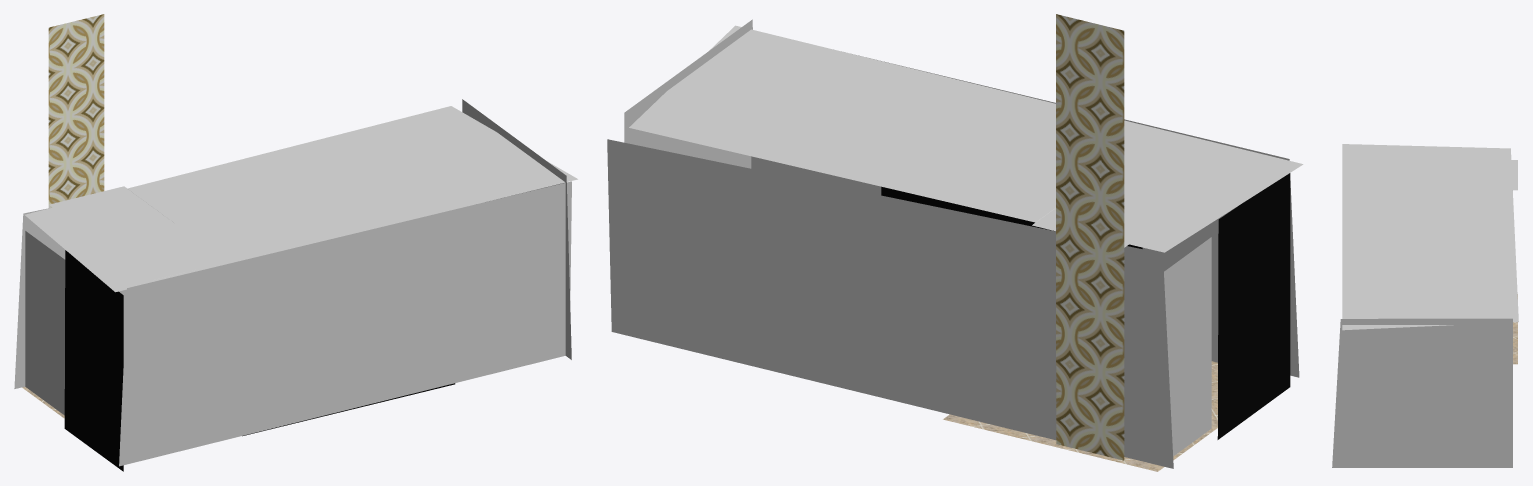
3 renders of one model, left to right at view 1: azimuth 30°, elevation 25°; view 2: azimuth 150°, elevation 25°; view 3: azimuth 270°, elevation 25°, orthographic. The views are drawn at different scales.
Parts seen in each view (by area): view 1: stairscase:Mesh17, stairscase:Mesh23, stairscase:Mesh13, stairscase:Mesh18; view 2: stairscase:Mesh17, stairscase:Mesh13, stairscase:Mesh23, stairscase:Mesh18, stairscase:Mesh14, stairscase:Mesh22; view 3: stairscase:Mesh17, stairscase:Mesh18, stairscase:Mesh14.
Part boxes in pixels (x1,y1,x2,y2): stairscase:Mesh17: (14, 99, 577, 466); stairscase:Mesh23: (64, 250, 123, 471); stairscase:Mesh13: (48, 14, 104, 207); stairscase:Mesh18: (49, 186, 206, 280); stairscase:Mesh17: (607, 19, 1303, 468); stairscase:Mesh13: (1056, 14, 1124, 460); stairscase:Mesh23: (1217, 173, 1290, 439); stairscase:Mesh18: (1032, 132, 1250, 362); stairscase:Mesh14: (943, 361, 1217, 471); stairscase:Mesh22: (881, 186, 1142, 248); stairscase:Mesh17: (1332, 144, 1518, 467); stairscase:Mesh18: (1347, 160, 1517, 190); stairscase:Mesh14: (1513, 294, 1517, 364).
Bounding box in the file's own units: 15.53 × 11.51 × 6.56.
6 materials, 2 textured.
